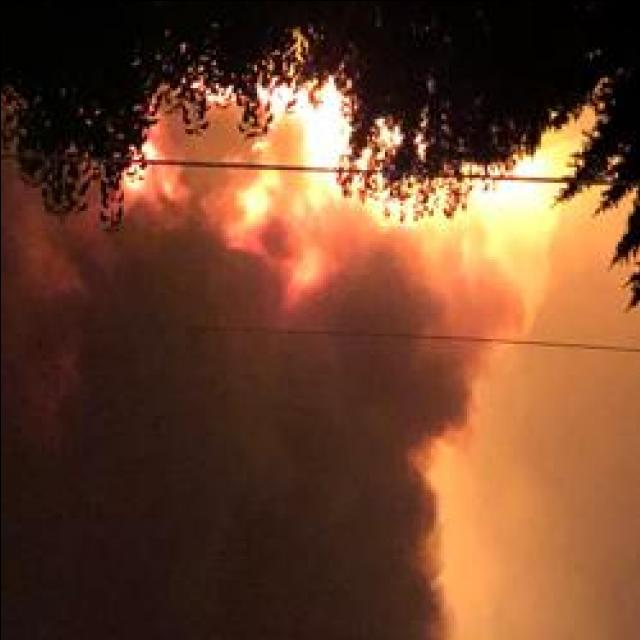fire: (311, 97, 345, 159), (118, 137, 152, 190), (263, 85, 289, 111)
smoke: (412, 364, 507, 640), (446, 248, 600, 334), (160, 163, 238, 236)
